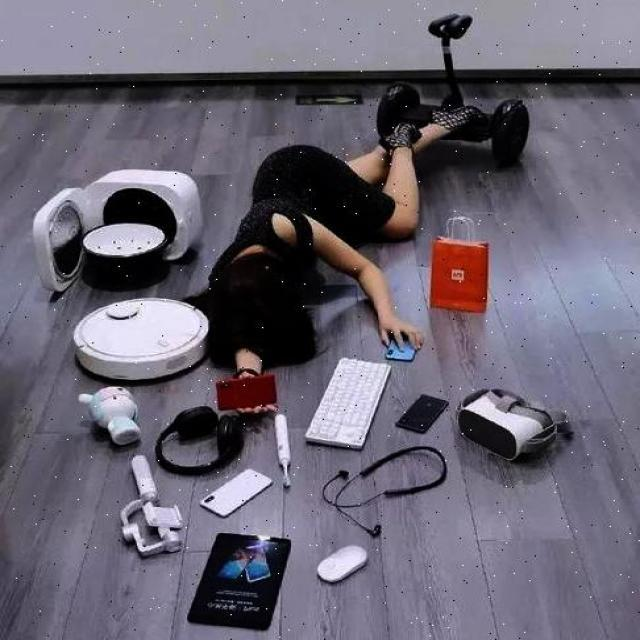fall: (211, 116, 424, 364)
